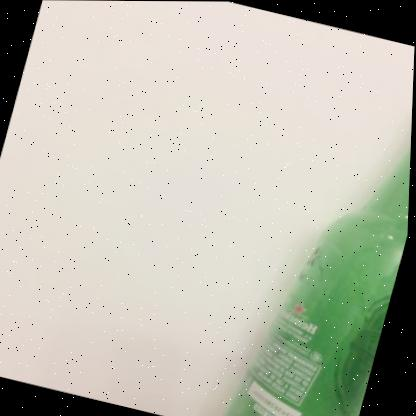Glass: (230, 150, 412, 416)
